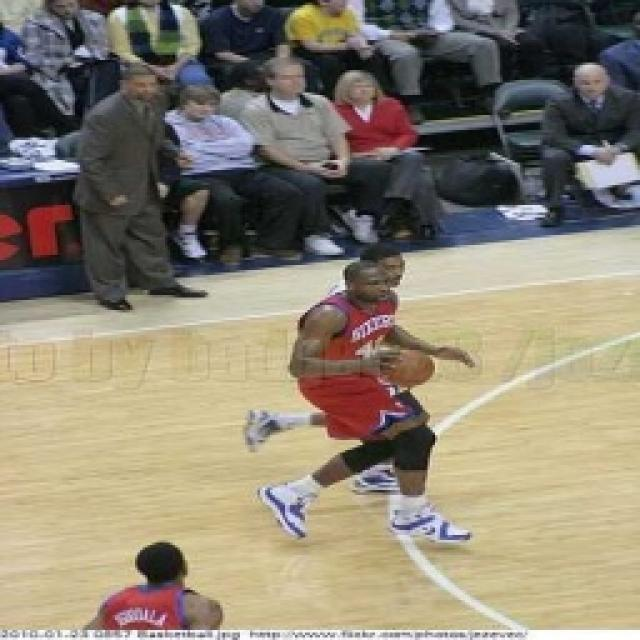rim: (372, 345, 434, 389)
